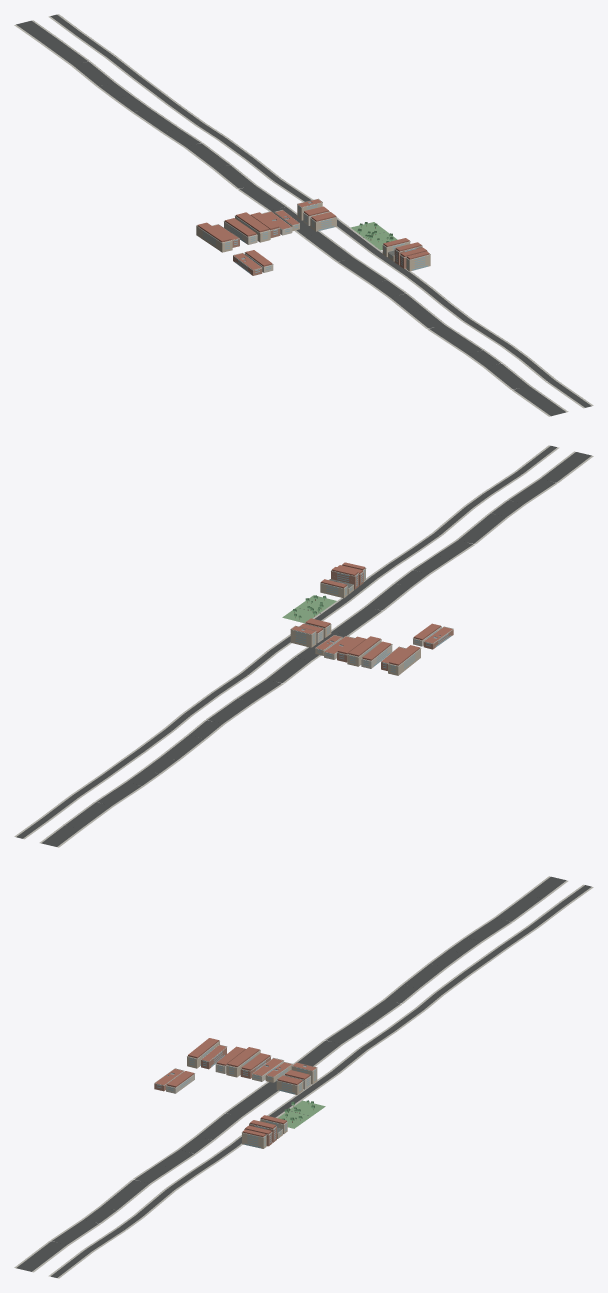
Rendered from tile-m002-m001.glb.
3 renders of one model, top to bottom at view 1: azimuth 30°, elevation 25°; view 2: azimuth 150°, elevation 25°; view 3: azimuth 330°, elevation 25°, orthographic.
Visible parts, largest first — view 1: road-v-4-mesh-1, road-v-5-mesh-3, road-v-4-mesh-0, road-v-5-mesh-2, neighborhood-park-block-091-mesh-4; view 2: road-v-4-mesh-1, road-v-5-mesh-3, road-v-4-mesh-0, road-v-5-mesh-2, neighborhood-park-block-091-mesh-4; view 3: road-v-4-mesh-1, road-v-5-mesh-3, road-v-4-mesh-0, road-v-5-mesh-2, neighborhood-park-block-091-mesh-4.
Part boxes in pixels (box(x1,y1,x2,y2)): road-v-4-mesh-1: box(16, 20, 565, 416); road-v-5-mesh-3: box(50, 14, 591, 407); road-v-4-mesh-0: box(14, 20, 568, 416); road-v-5-mesh-2: box(48, 14, 593, 408); neighborhood-park-block-091-mesh-4: box(350, 222, 397, 250); road-v-4-mesh-1: box(41, 452, 591, 846); road-v-5-mesh-3: box(16, 446, 556, 838); road-v-4-mesh-0: box(39, 451, 593, 847); road-v-5-mesh-2: box(14, 445, 559, 839); neighborhood-park-block-091-mesh-4: box(282, 595, 336, 622); road-v-4-mesh-1: box(16, 876, 566, 1271); road-v-5-mesh-3: box(51, 885, 591, 1277); road-v-4-mesh-0: box(14, 876, 568, 1272); road-v-5-mesh-2: box(48, 884, 593, 1278); neighborhood-park-block-091-mesh-4: box(278, 1100, 325, 1128).
Bounding box in the file's own units: 254 × 24.28 × 1600.
